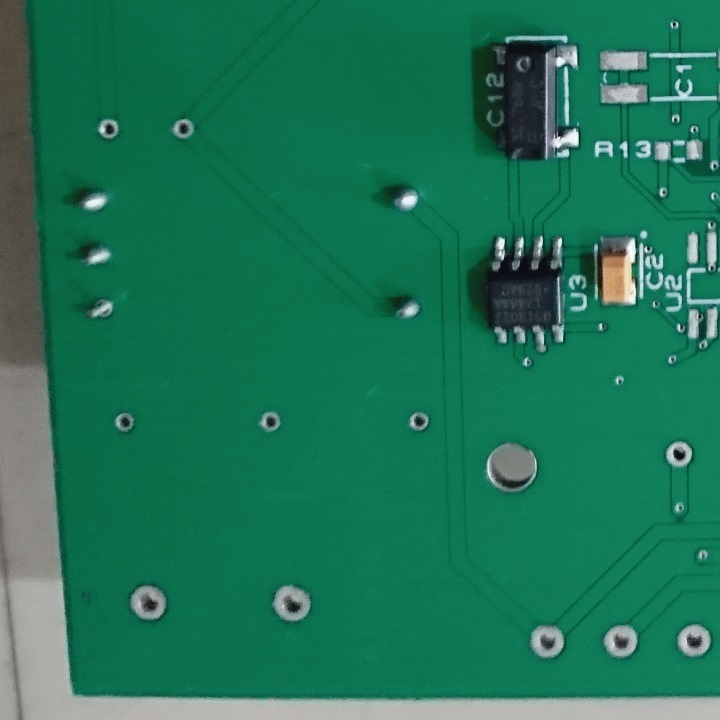F: (270, 581, 316, 626), (127, 580, 168, 624), (674, 619, 714, 663), (601, 620, 641, 660), (528, 620, 567, 661), (664, 438, 697, 469), (85, 294, 116, 324), (94, 114, 124, 142), (169, 115, 196, 142), (111, 409, 136, 435), (405, 410, 432, 434), (259, 410, 283, 433)
